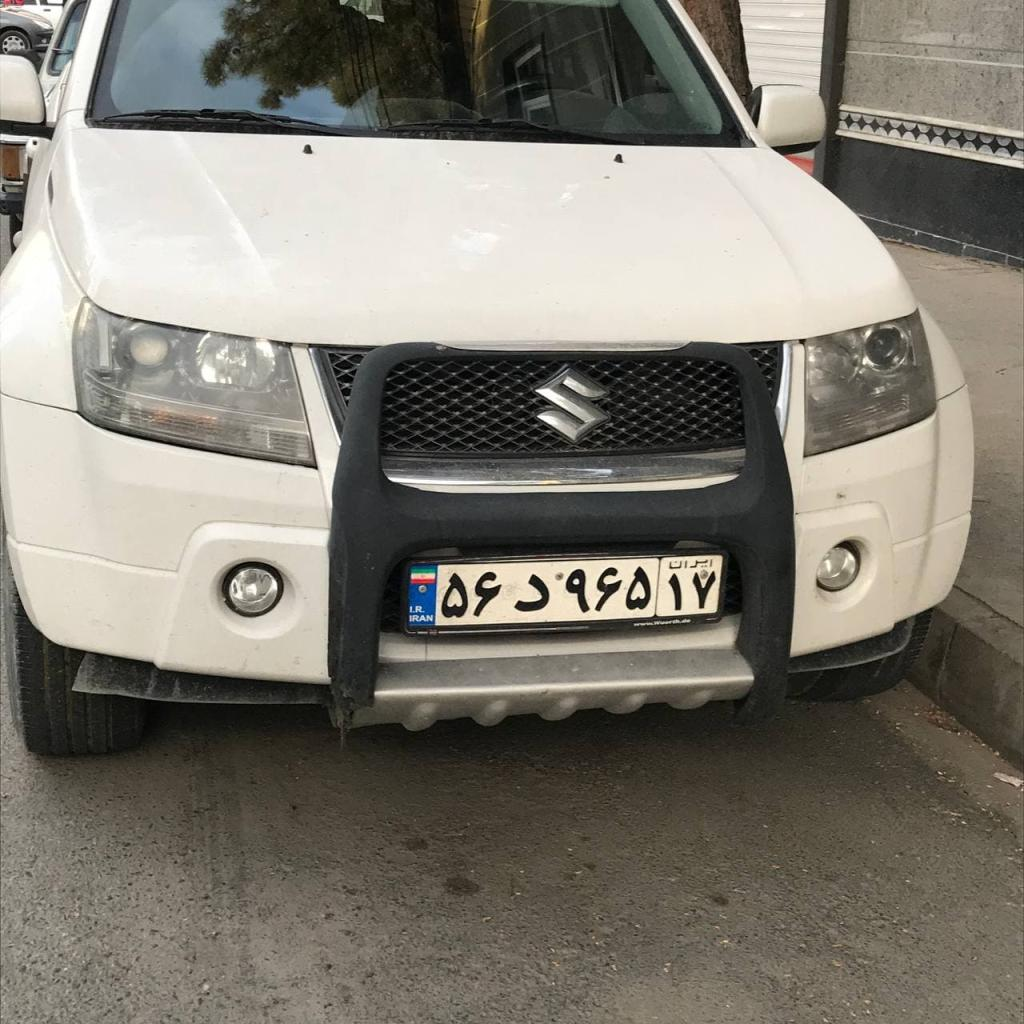Plates: (408, 555, 723, 628)
